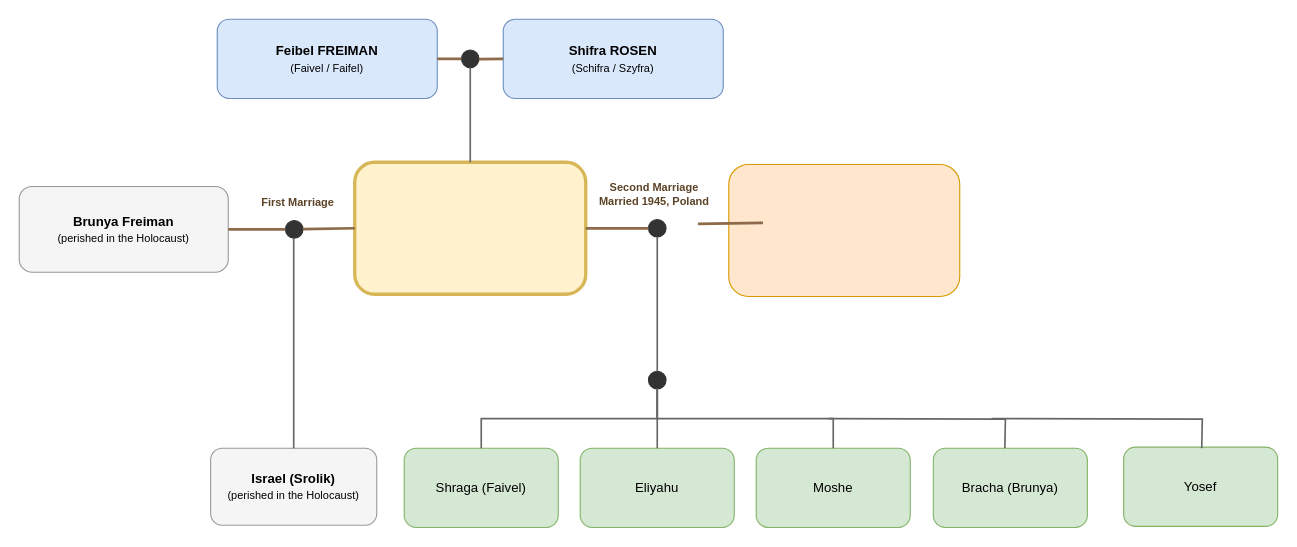
This 1297x547 diagram has some shape labels left out. The centre of each missing label's shape, as x and y in pixels:
Ester FREIMAN b. 15 April 1920: point 844,229
Herman (Zvi Hirsch) FREIMAN b. 2 March 1910 Boryslaw, Poland: point 470,227
